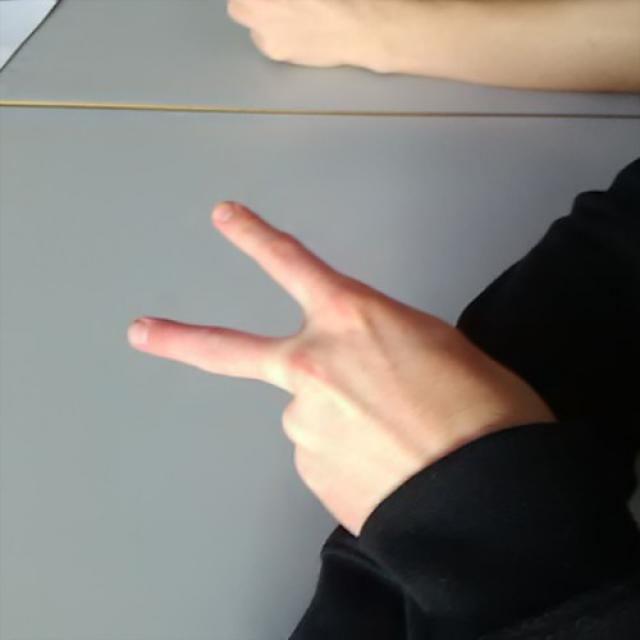scissors: (127, 199, 435, 473)
